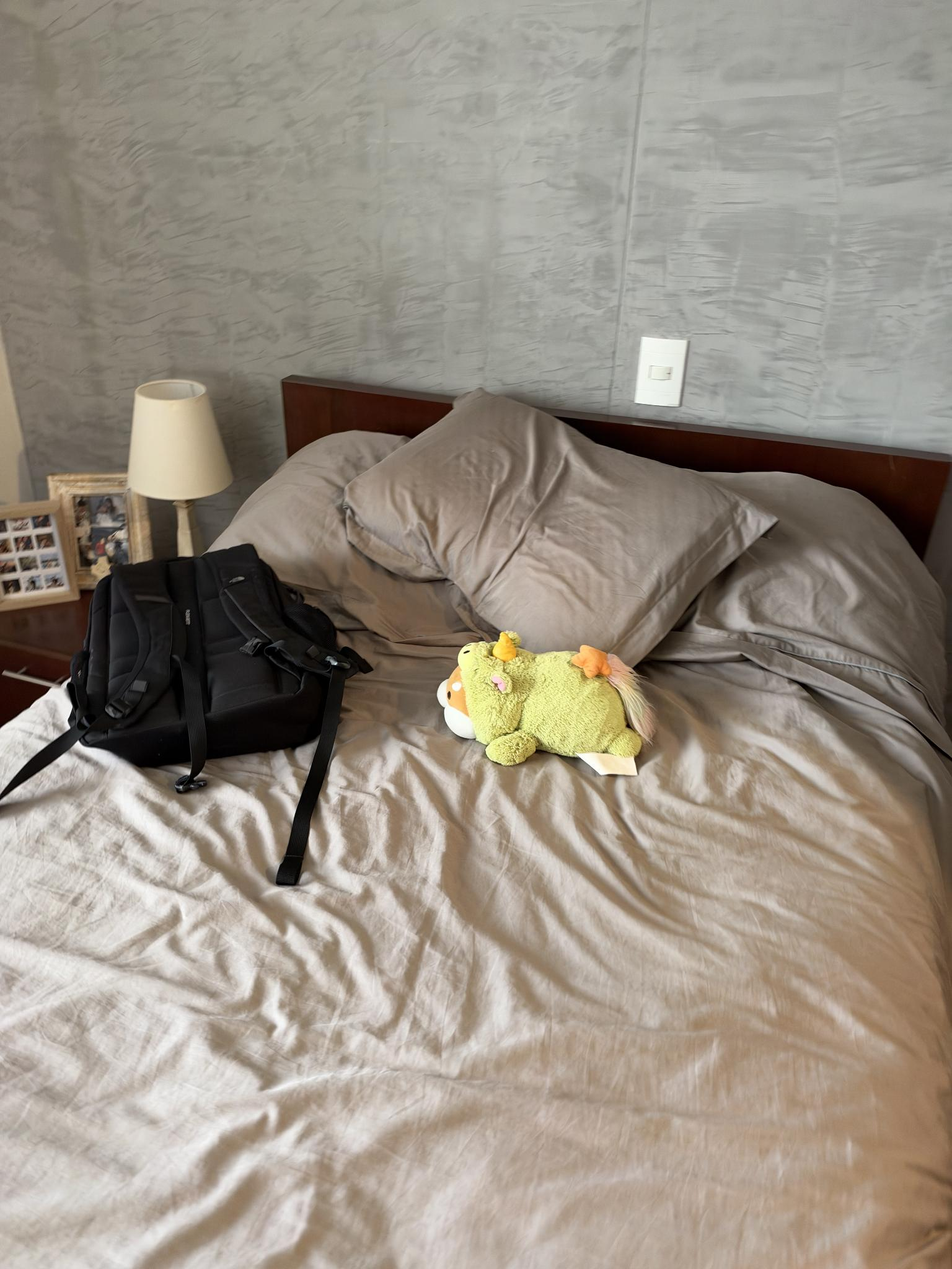peluche_martin: (436, 630, 660, 766)
